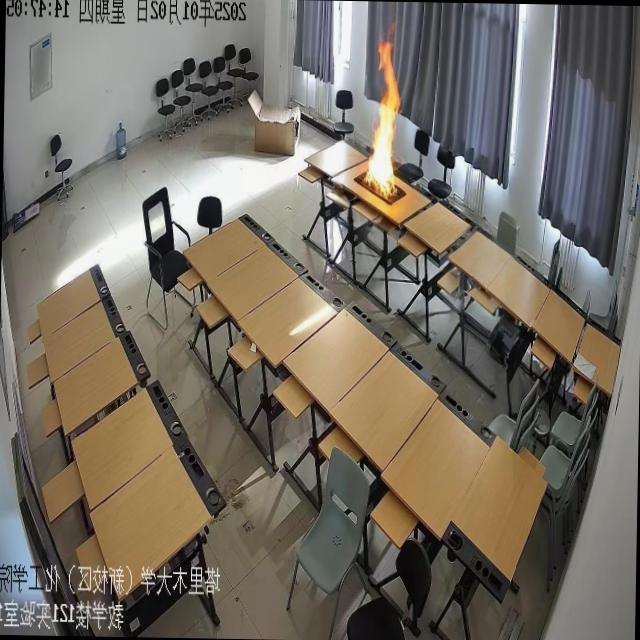fire: (346, 22, 413, 208)
